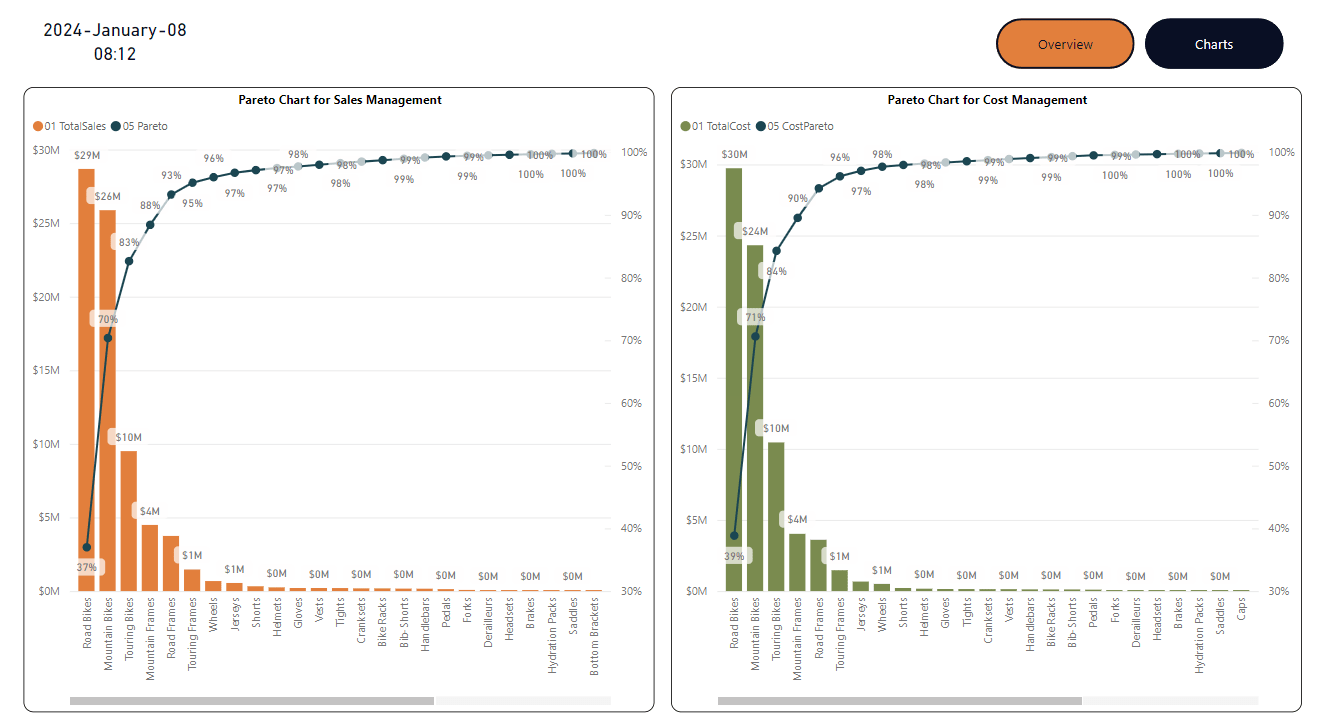

Layout of this report page (visuals, bound fields, positions):
{"tool":"powerbi","page":{"name":"Charts","canvas":[1280,720],"ordinal":1},"visuals":[{"type":"card","fields":{"Values":["Product.time"]},"box":[17.1,3.7,180.9,58.7],"z":0,"group":"g1"},{"type":"lineClusteredColumnComboChart","title":"Pareto Chart for Sales Management","fields":{"Category":["Product.Subcategory"],"Y":["Measurments.01 TotalSales"],"Y2":["Measurments.05 Pareto"]},"box":[17.1,89.5,623.4,617.3],"z":1},{"type":"group","id":"g1","title":"Group 1","box":[17.1,3.7,180.9,81.9],"z":2},{"type":"lineClusteredColumnComboChart","title":"Pareto Chart for Cost Management","fields":{"Category":["Product.Subcategory"],"Y":["Measurments.01 TotalCost"],"Y2":["Measurments.05 CostPareto"]},"box":[656.4,89.5,623.4,617.3],"z":3},{"type":"pageNavigator","box":[977.9,20.8,284.8,50.1],"z":4},{"type":"card","fields":{"Values":["Product.Time"]},"box":[17.1,26.9,180.9,58.7],"z":1000,"group":"g1"}]}

Visuals, with their boxes in screenshot pixels (x1, y1, x2, y2), scaled from the page's 1280x720 canvas onto the 1317x725 screenshot:
card - Product.time: (left=18, top=4, right=204, bottom=63)
"Pareto Chart for Sales Management" lineClusteredColumnComboChart: (left=18, top=90, right=659, bottom=712)
"Group 1" group: (left=18, top=4, right=204, bottom=86)
"Pareto Chart for Cost Management" lineClusteredColumnComboChart: (left=675, top=90, right=1316, bottom=712)
pageNavigator: (left=1006, top=21, right=1299, bottom=71)
card - Product.Time: (left=18, top=27, right=204, bottom=86)
